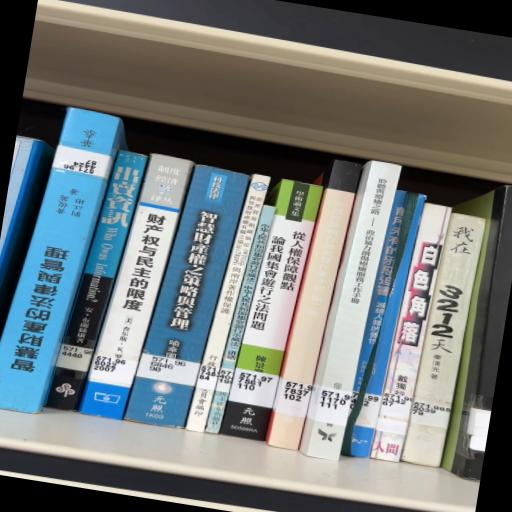reverse: (1, 108, 126, 413)
